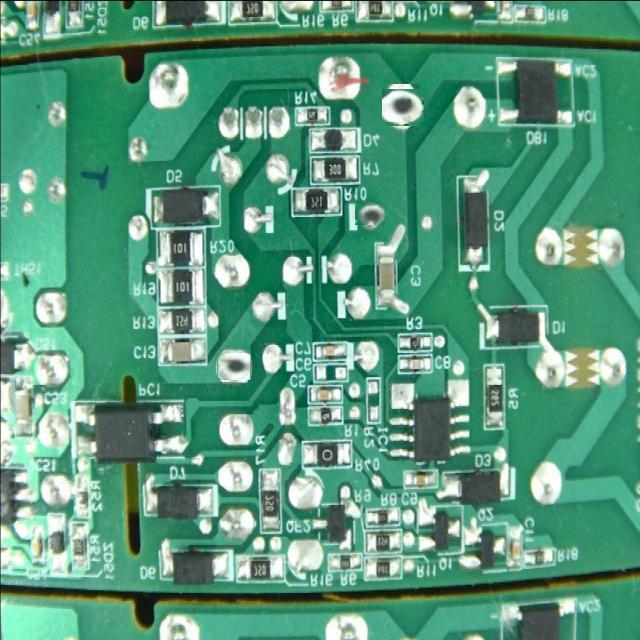damged: (384, 86, 422, 124), (218, 351, 250, 382), (357, 201, 383, 227)
